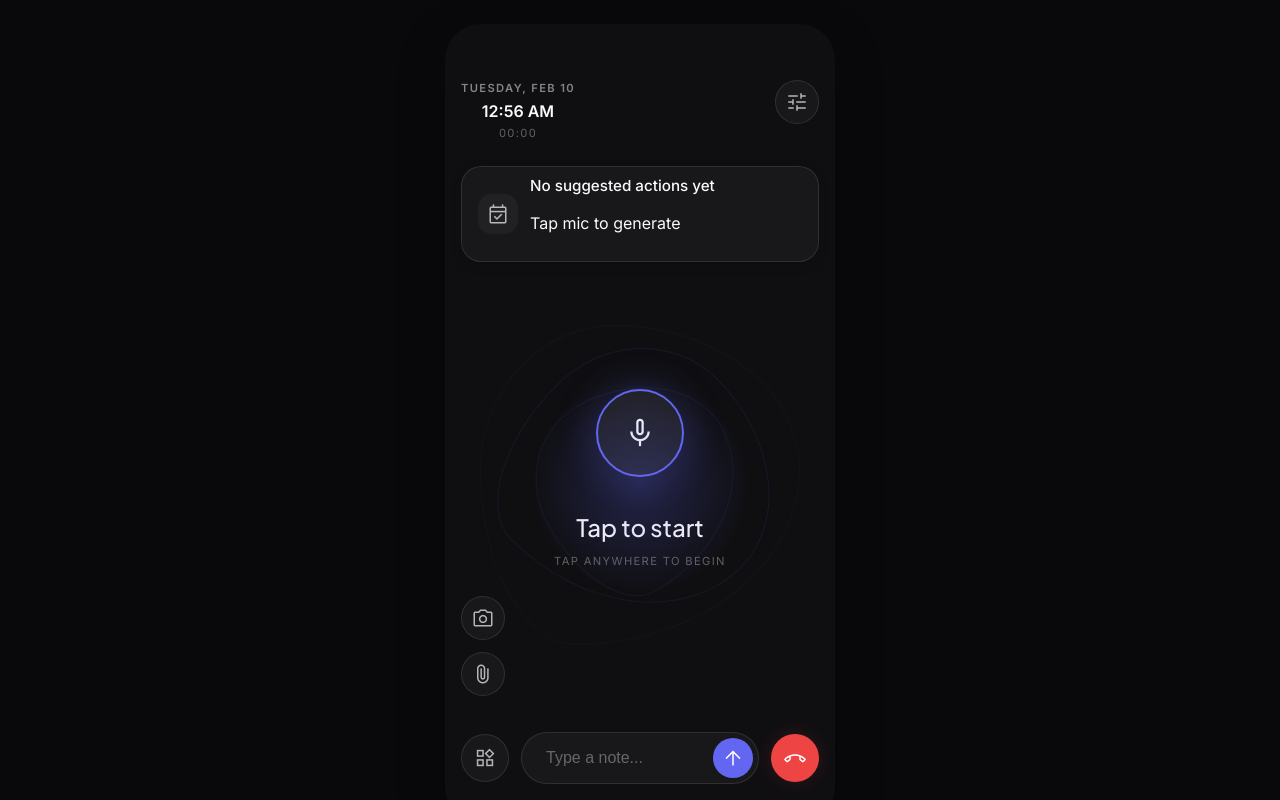
Test: Tools drawer › shows empty state when no tools are configured
Click the button named "Open tools" at {"x": 485, "y": 758}, box [461, 734, 509, 782]
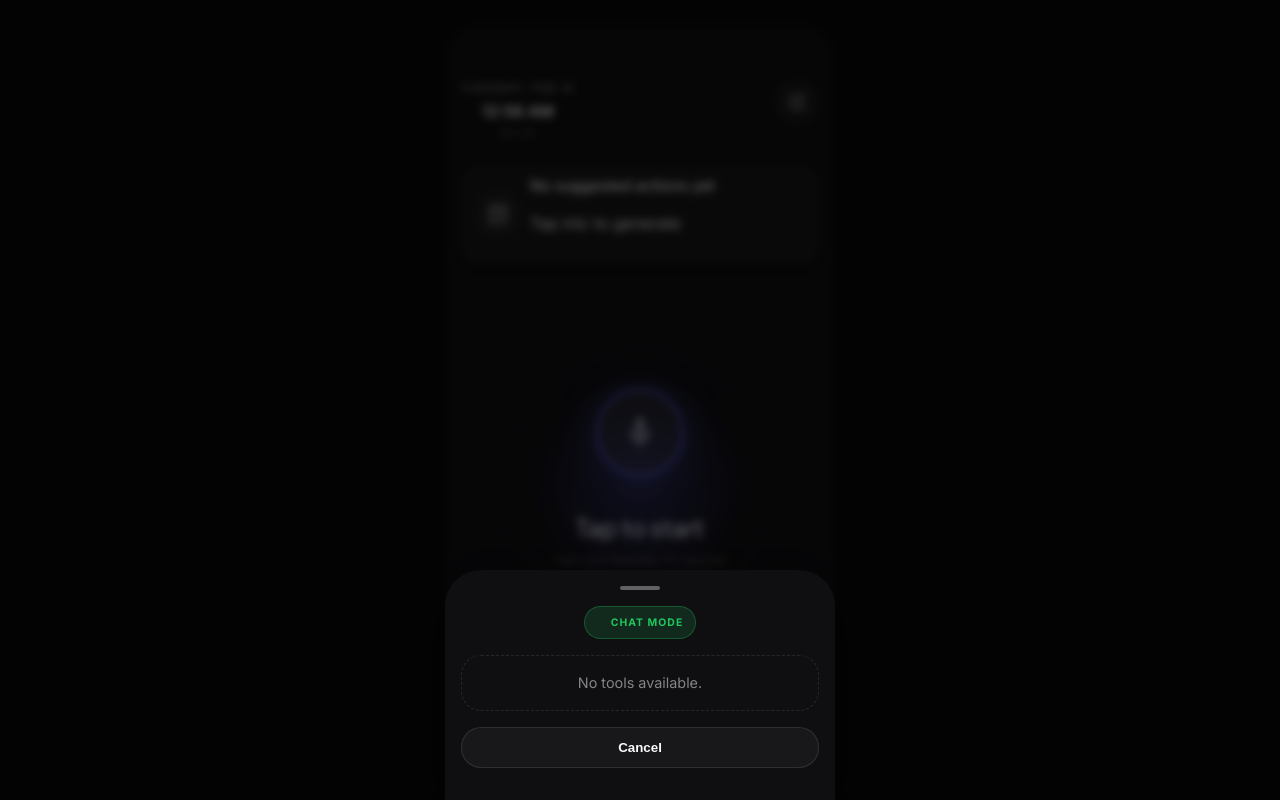
Check: the text "No tools available." is shown, box [461, 655, 819, 711]
